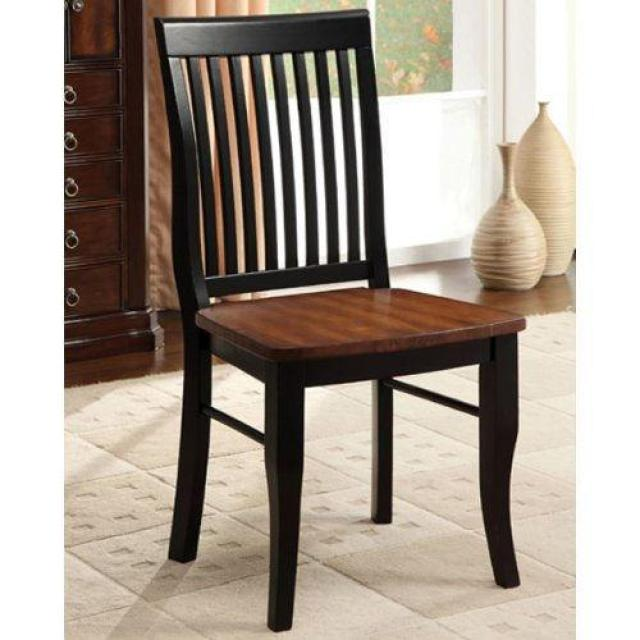chair: (152, 9, 522, 634)
